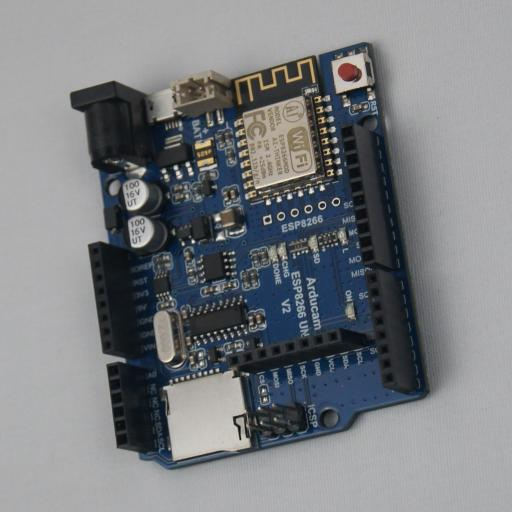Arduino Uno Camera Shield: (70, 42, 439, 470)
